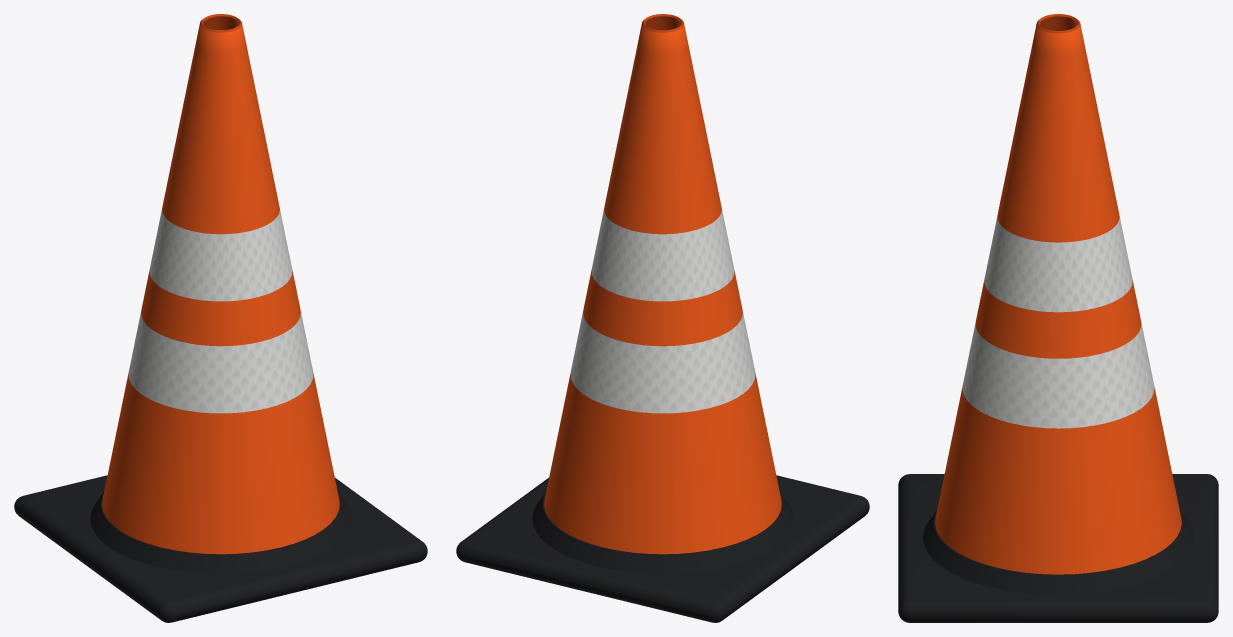
File: g3d_traffic_cone.glb
3 renders of one model, left to right at view 1: azimuth 30°, elevation 25°; view 2: azimuth 150°, elevation 25°; view 3: azimuth 270°, elevation 25°, orthographic. The views are drawn at different scales.
Visible parts, largest first — view 1: traffic-cone_body, traffic-cone_base, traffic-cone_body_lo; view 2: traffic-cone_body, traffic-cone_base, traffic-cone_body_lo; view 3: traffic-cone_body, traffic-cone_base, traffic-cone_body_lo.
Boxes of the visible parts, <box> form: traffic-cone_body: <box>102,14,339,554</box>; traffic-cone_base: <box>14,475,427,622</box>; traffic-cone_body_lo: <box>135,14,330,534</box>; traffic-cone_body: <box>544,14,781,554</box>; traffic-cone_base: <box>456,475,869,622</box>; traffic-cone_body_lo: <box>568,14,743,552</box>; traffic-cone_body: <box>935,14,1181,574</box>; traffic-cone_base: <box>898,474,1218,622</box>; traffic-cone_body_lo: <box>945,14,1172,569</box>.
Bounding box in the file's own units: 0.38 × 0.702 × 0.38.
4 materials, 1 textured.
